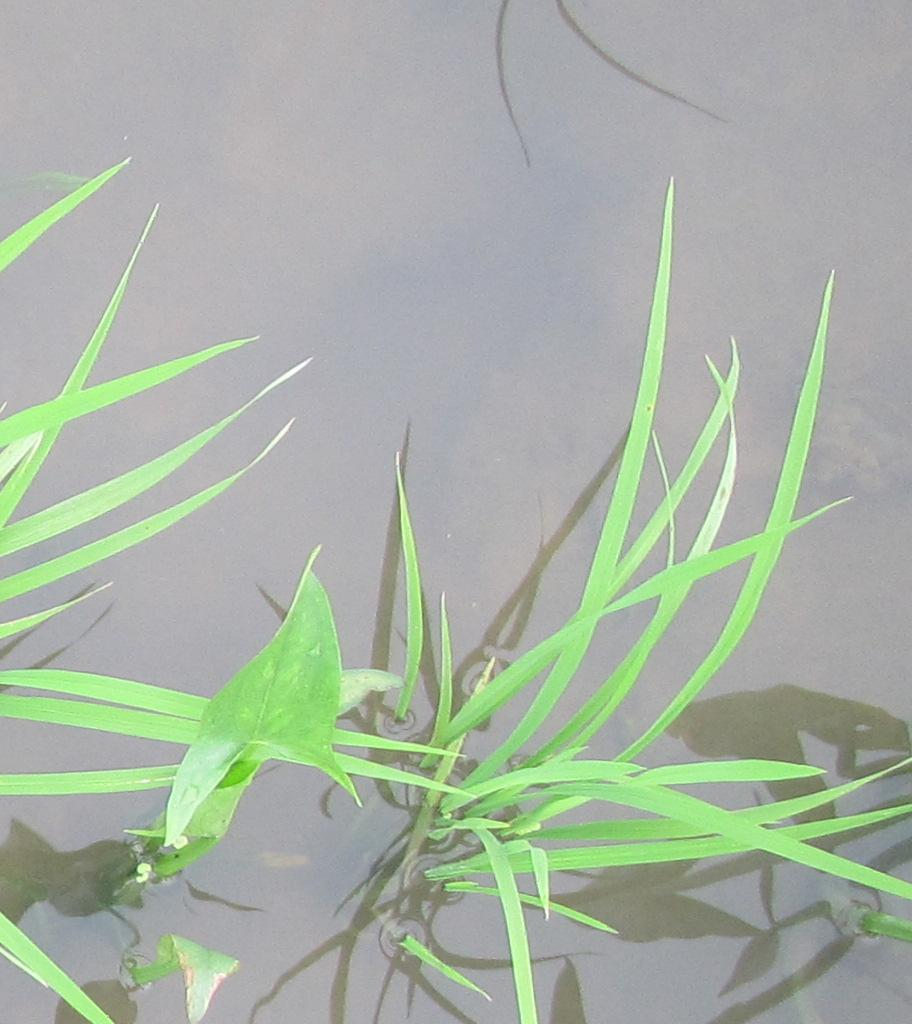Weed: (183, 569, 353, 814)
